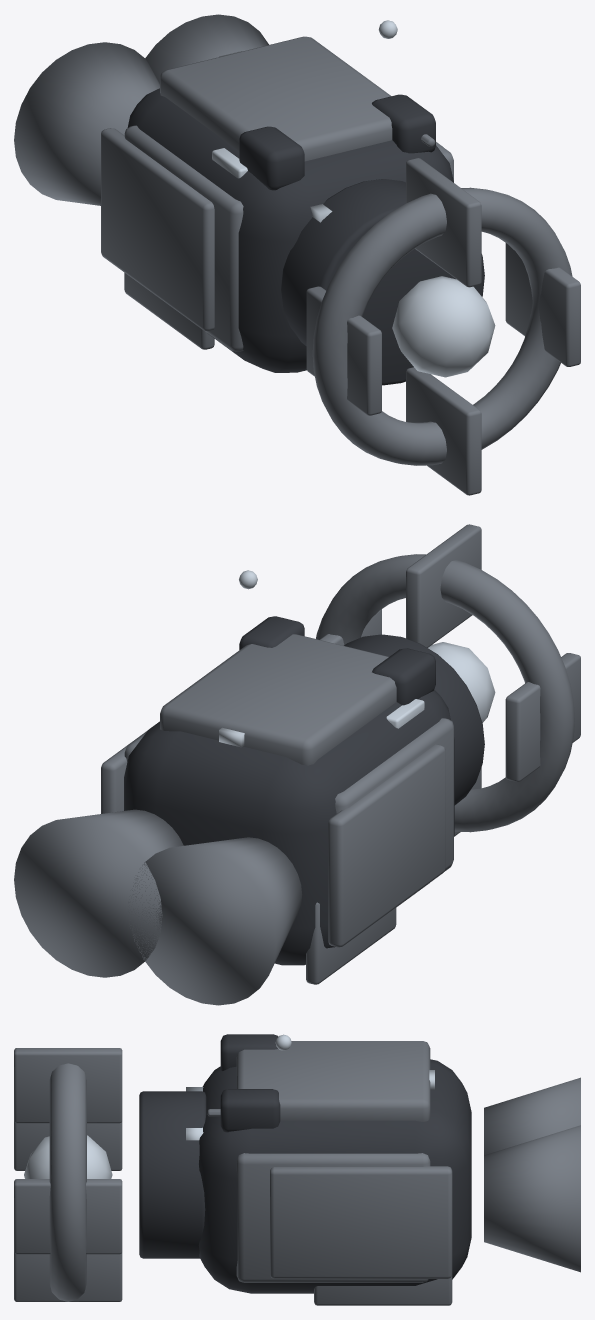
The model's file is weapon_drone_lightning_net.glb.
3 views of the same model, one above another, from view 1: azimuth 30°, elevation 25°; view 2: azimuth 150°, elevation 25°; view 3: azimuth 270°, elevation 25° (orthographic). The views are drawn at different scales.
Visible parts, largest first — view 1: weapon_drone_lightning_net; view 2: weapon_drone_lightning_net; view 3: weapon_drone_lightning_net.
Boxes of the visible parts, x1,y1,x2,y2 form: weapon_drone_lightning_net: (14, 14, 580, 495); weapon_drone_lightning_net: (14, 524, 580, 1005); weapon_drone_lightning_net: (14, 1034, 580, 1305).
Size of the model in its own units: 0.696 by 0.8688 by 1.52.
